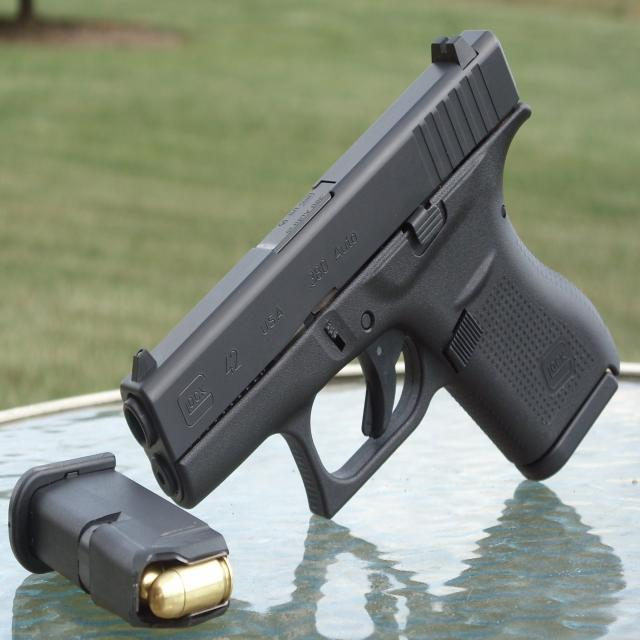Pistol: (85, 22, 635, 518)
